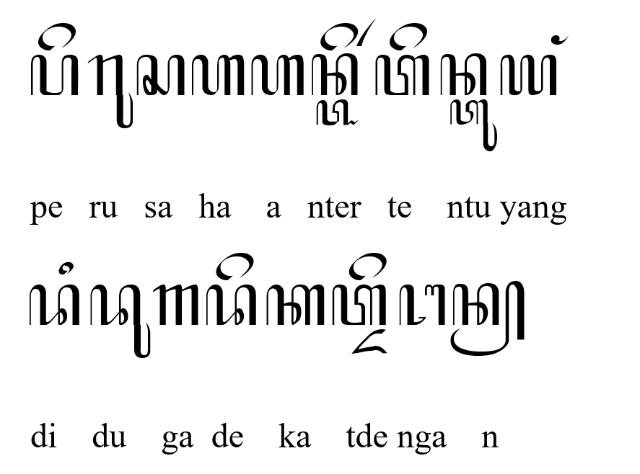-n: (449, 280, 525, 356)
_d: (350, 328, 388, 356)
_r1: (356, 17, 376, 47)
_t: (316, 98, 358, 126)
d: (28, 283, 80, 325), (205, 284, 257, 326)
du: (89, 284, 151, 358)
e: (348, 250, 388, 280), (216, 252, 254, 282), (319, 22, 359, 50), (388, 22, 428, 50), (38, 22, 76, 50)
g: (152, 284, 198, 326)
h: (250, 54, 304, 96), (192, 54, 244, 96)
i: (59, 262, 75, 276)
k: (266, 284, 324, 326)
n: (310, 54, 360, 96), (439, 53, 486, 97)
ng: (552, 33, 568, 45)
nga: (398, 284, 446, 326)
p: (30, 54, 78, 96)
ru: (88, 53, 134, 129)
s: (137, 54, 186, 96)
t: (374, 54, 430, 96), (332, 284, 386, 326)
tu: (449, 100, 497, 152)
y: (500, 55, 558, 96)
